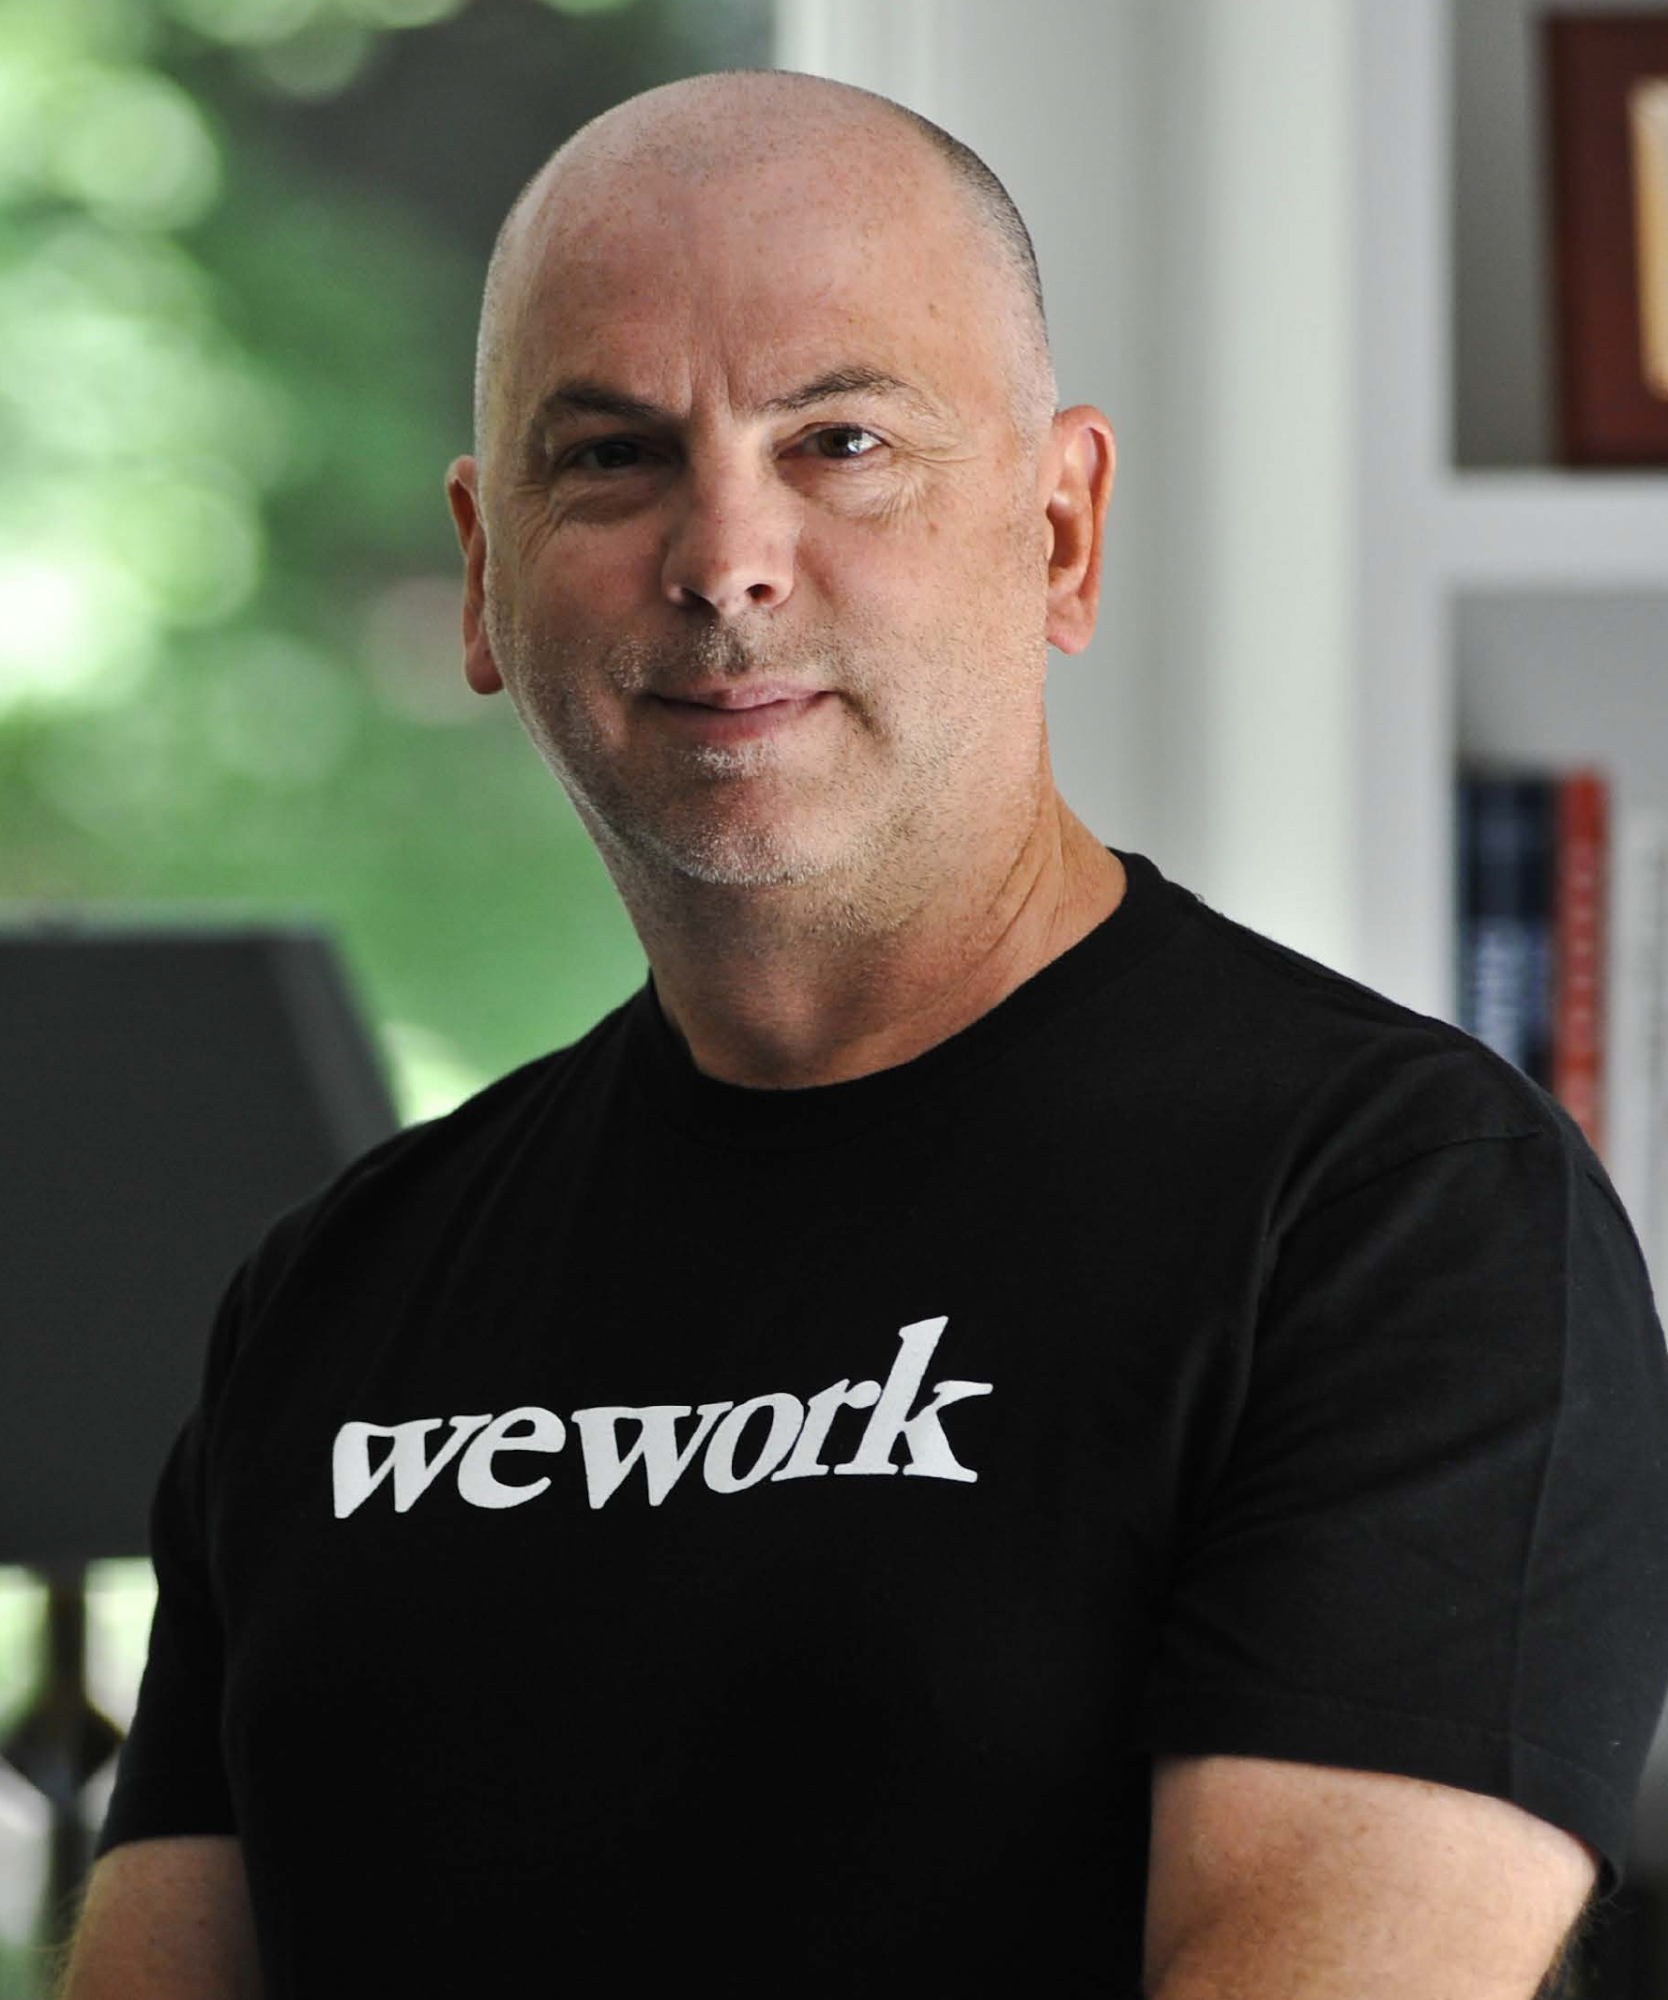wework: (317, 1312, 1000, 1530)
